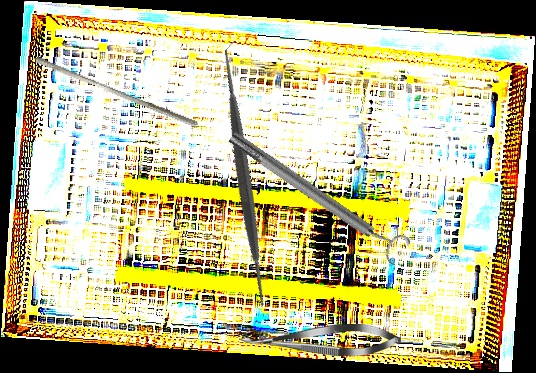Fixation Ring: (222, 120, 413, 269)
Micro Scissor: (239, 324, 401, 356)
Pusher: (32, 55, 201, 128)
Spatula Surgical: (103, 36, 386, 319)
